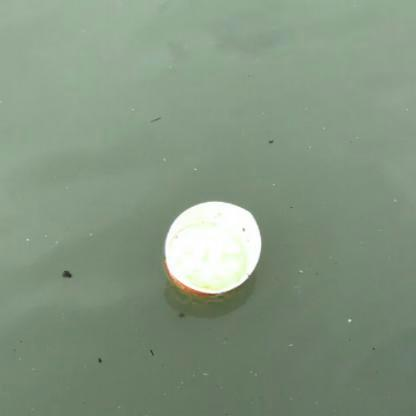Plastic: (157, 198, 266, 300)
